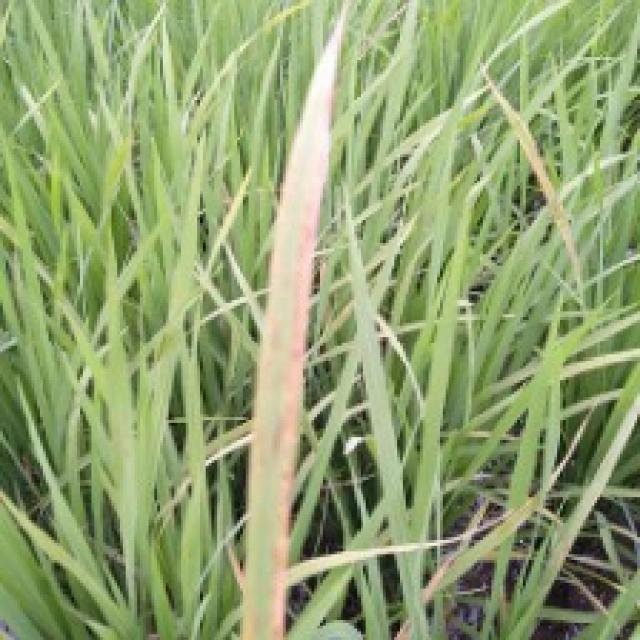Rice___Bacterial_Leaf_Blight: (240, 0, 366, 637)
